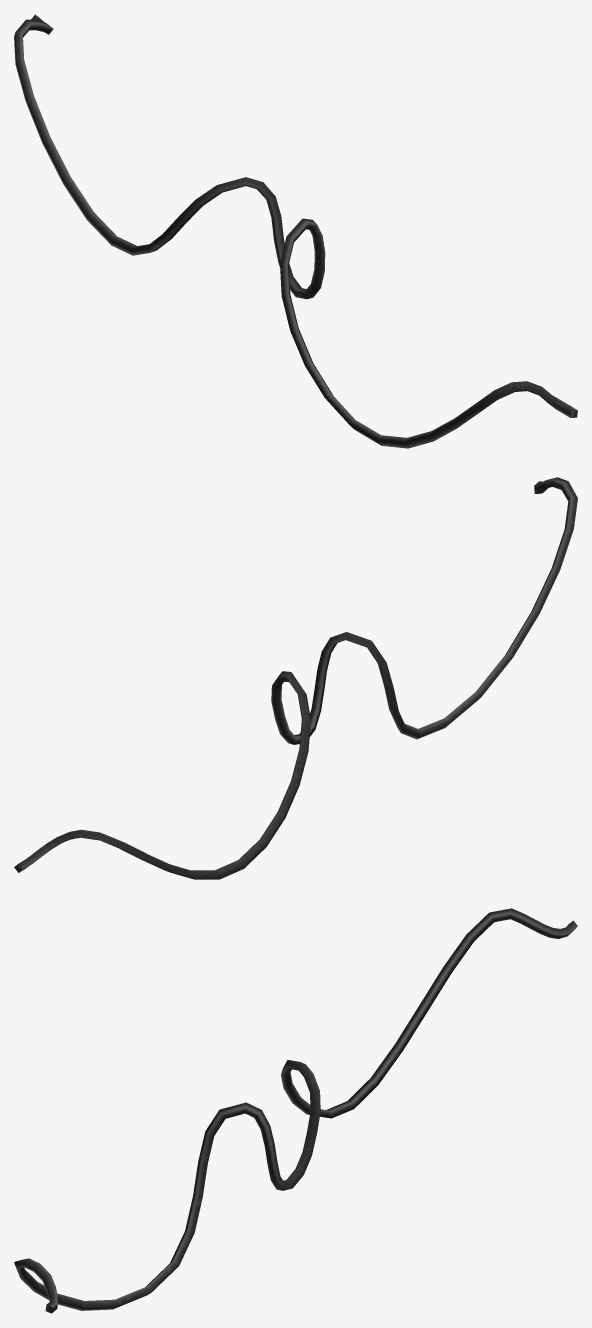
Rendered from cablePipe02_6m.fbx.
3 views of the same model, one above another, from view 1: azimuth 30°, elevation 25°; view 2: azimuth 150°, elevation 25°; view 3: azimuth 330°, elevation 25° (orthographic). The views are drawn at different scales.
Parts seen in each view (by area): view 1: cablePipe02_6m; view 2: cablePipe02_6m; view 3: cablePipe02_6m.
Boxes of the visible parts, box(x1,y1,x2,y2) form: cablePipe02_6m: box(14, 14, 577, 448); cablePipe02_6m: box(14, 477, 577, 879); cablePipe02_6m: box(14, 908, 577, 1313).
Bounding box in the file's own units: 55 × 91.46 × 600.
